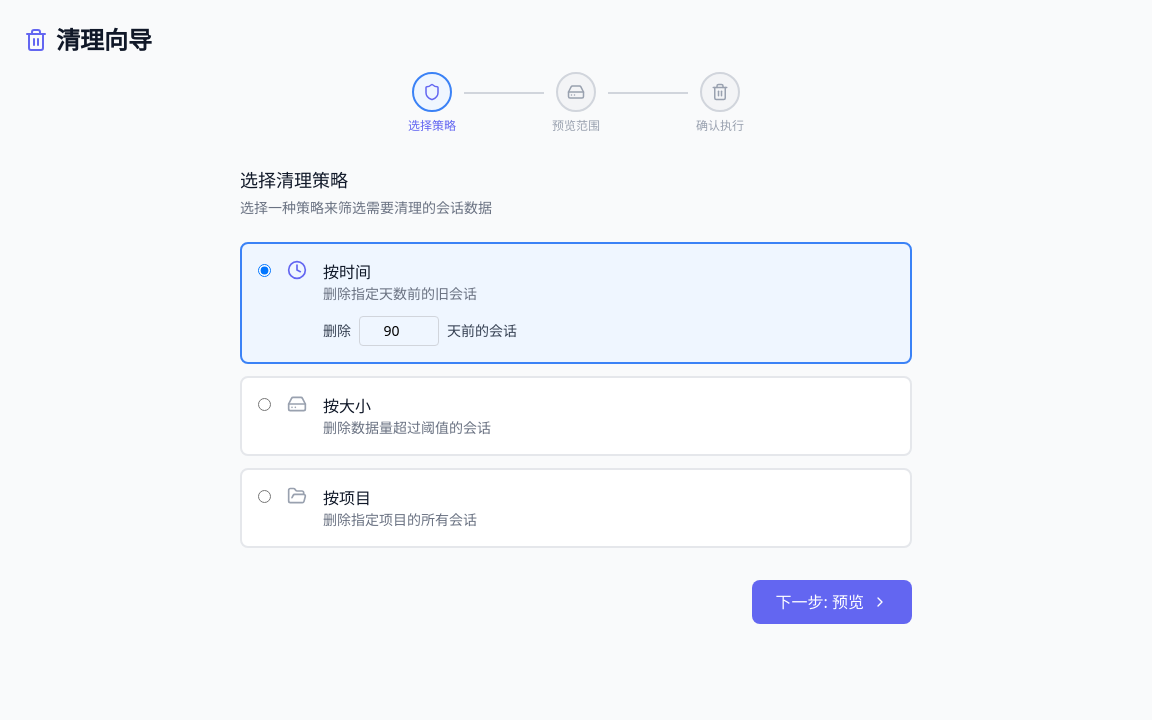
Test: Cleanup 预览的子会话锁定与父子联动（P2-2） › 后端字段缺失（旧后端）→ 按空数组处理，不报错
Click the button "下一步: 预览".
click(832, 602)  # box [752,580,912,624]
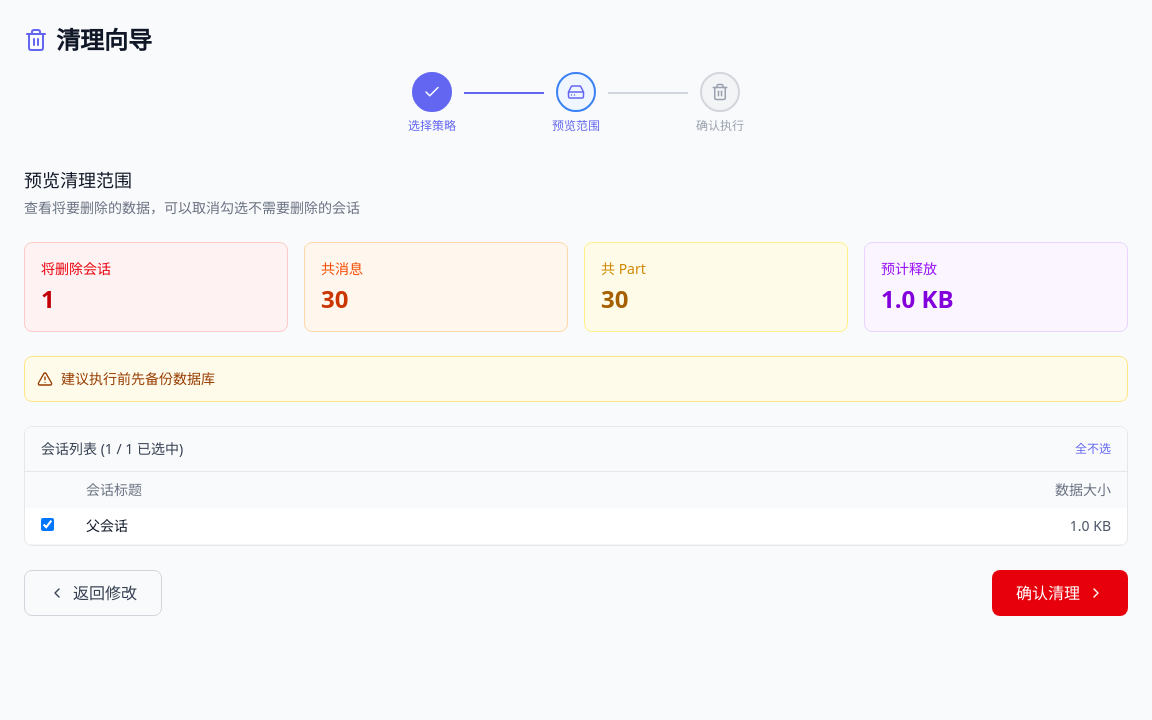
Expected: the heading "预览清理范围" is shown, [24,168,132,192]
Expected: the number of checkboxes is 1, [41,518,54,531]
Expected: the checkbox is enabled, [41,518,54,531]
